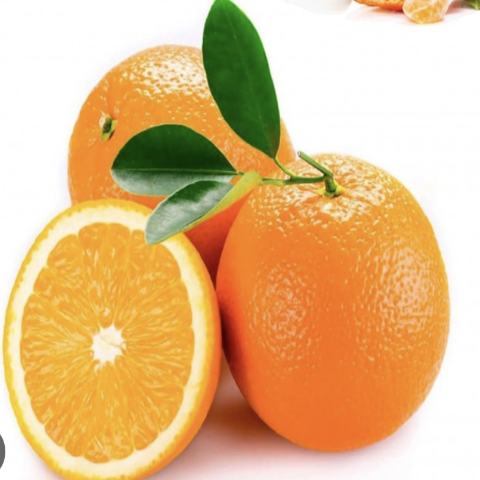orange: (199, 121, 460, 467), (60, 39, 320, 318)
